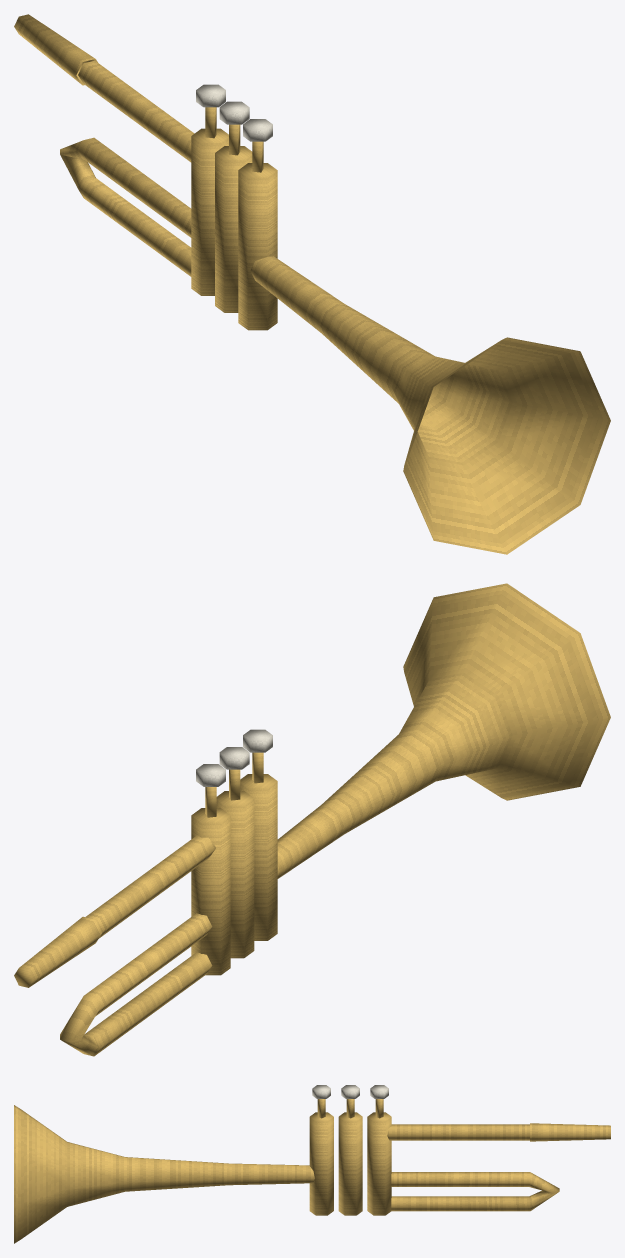
File: trumpet_3.glb
The picture shows the model from 3 angles, top to bottom: view 1: azimuth 30°, elevation 25°; view 2: azimuth 150°, elevation 25°; view 3: azimuth 270°, elevation 25°; orthographic projection. The views are drawn at different scales.
Visible parts, largest first — view 1: trumpet_3; view 2: trumpet_3; view 3: trumpet_3.
Boxes of the visible parts, x1=… form: trumpet_3: x1=14, y1=14, x2=610, y2=554; trumpet_3: x1=14, y1=583, x2=610, y2=1056; trumpet_3: x1=14, y1=1085, x2=610, y2=1243.
Size of the model in its own units: 0.128 by 0.146 by 0.516.
2 materials, 2 textured.
